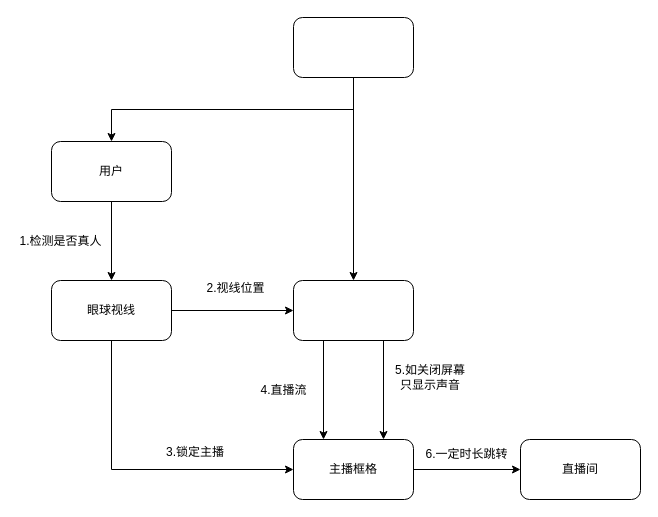
Some shapes in this 658 by 517 pixel diagram are drawn without their labels. The shapes that lost their labels are listed below. From the top down, each one's centre as x and y in pixels, then its label:
[353,47]: 客户端
[353,310]: 主页
